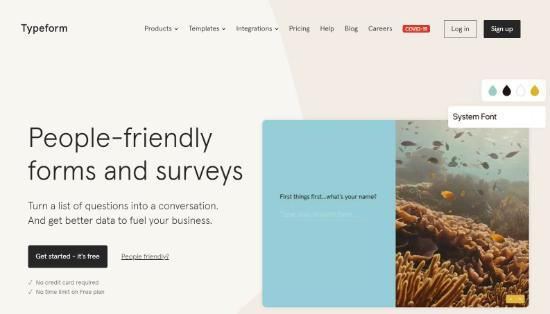button: (29, 246, 109, 269), (484, 20, 523, 40), (444, 20, 479, 40), (403, 25, 431, 35)
label: (30, 126, 246, 186), (27, 201, 221, 227), (21, 24, 69, 35), (235, 24, 281, 35), (35, 280, 102, 287), (188, 24, 228, 35), (144, 24, 181, 34), (121, 254, 171, 261), (36, 290, 106, 295), (289, 24, 312, 35), (344, 24, 362, 35), (367, 26, 394, 33), (320, 25, 336, 34)
